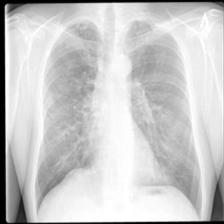tuberculosis: (31, 16, 206, 220)
